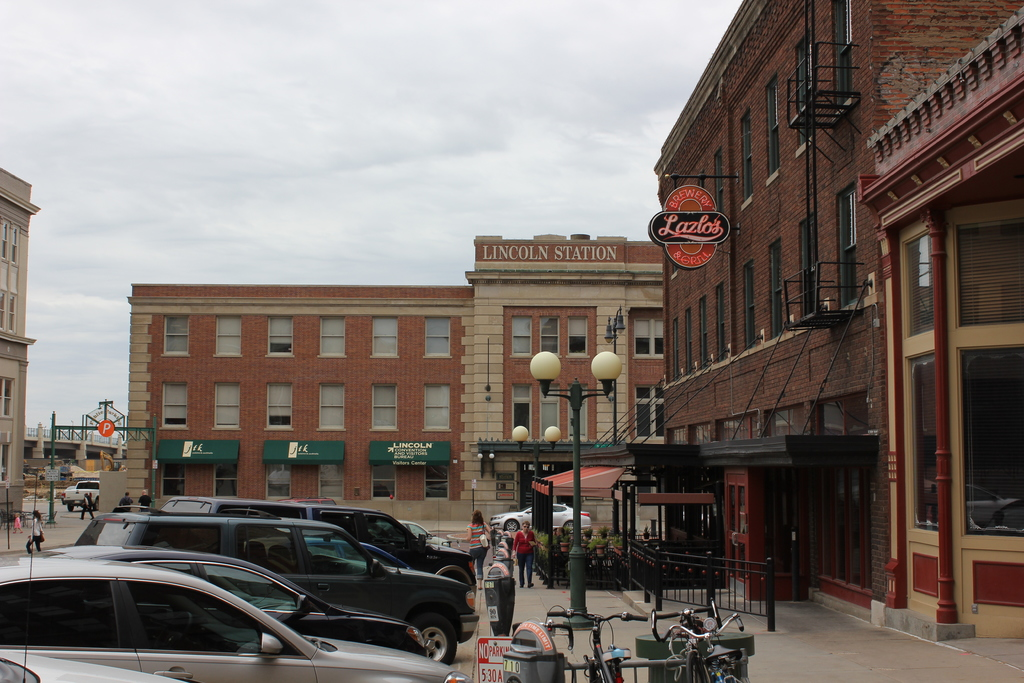cars: (0, 498, 478, 682), (489, 502, 594, 534), (61, 479, 95, 501)
